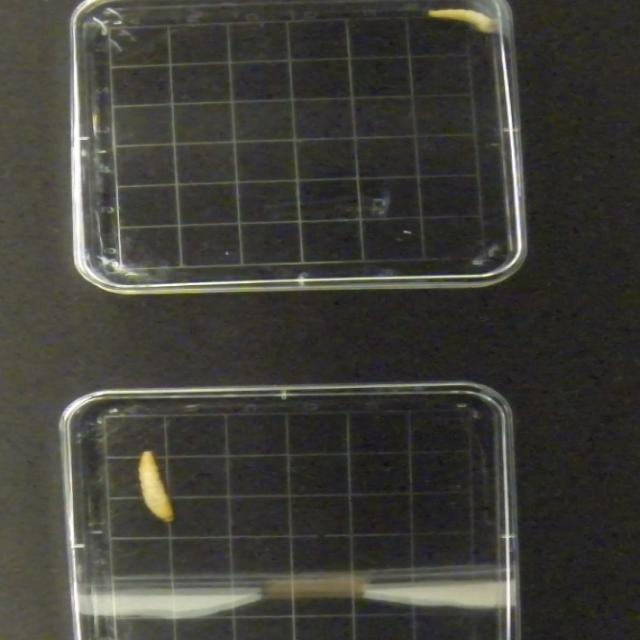larva: (133, 449, 181, 526), (426, 7, 502, 33)
